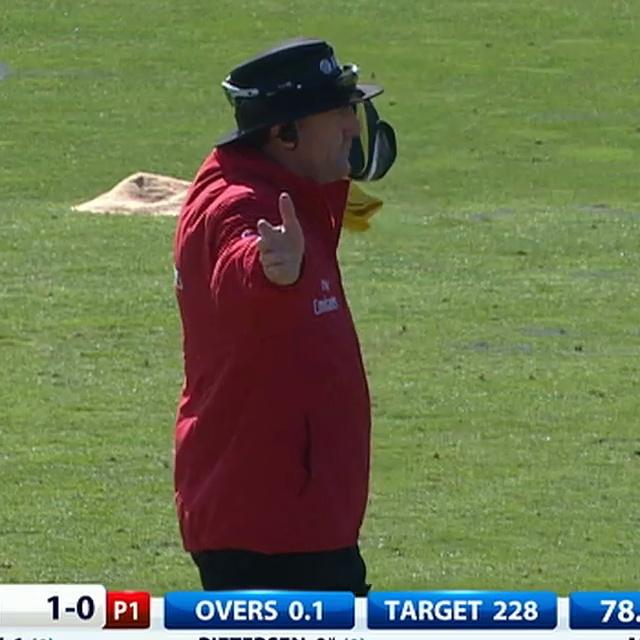umpire: (140, 8, 420, 598)
